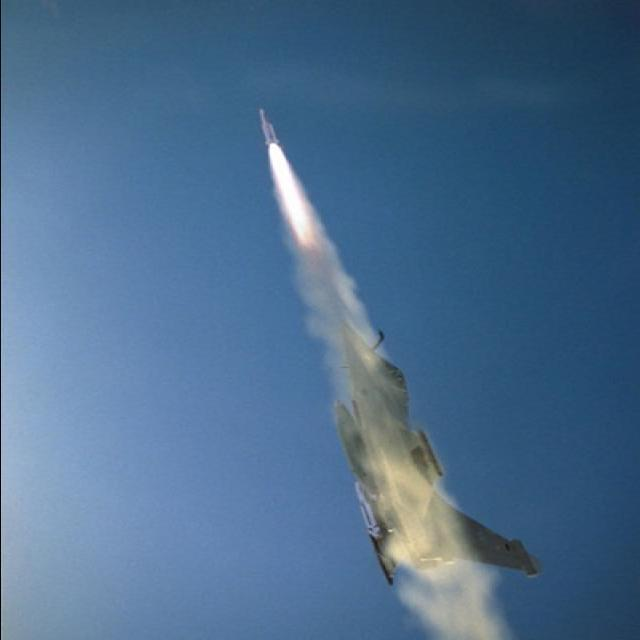missile: (248, 100, 286, 151)
